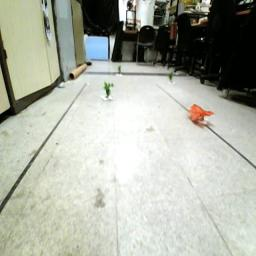herb: (104, 82, 115, 98), (167, 71, 175, 84), (119, 66, 123, 75)
wild: (189, 104, 216, 124)
